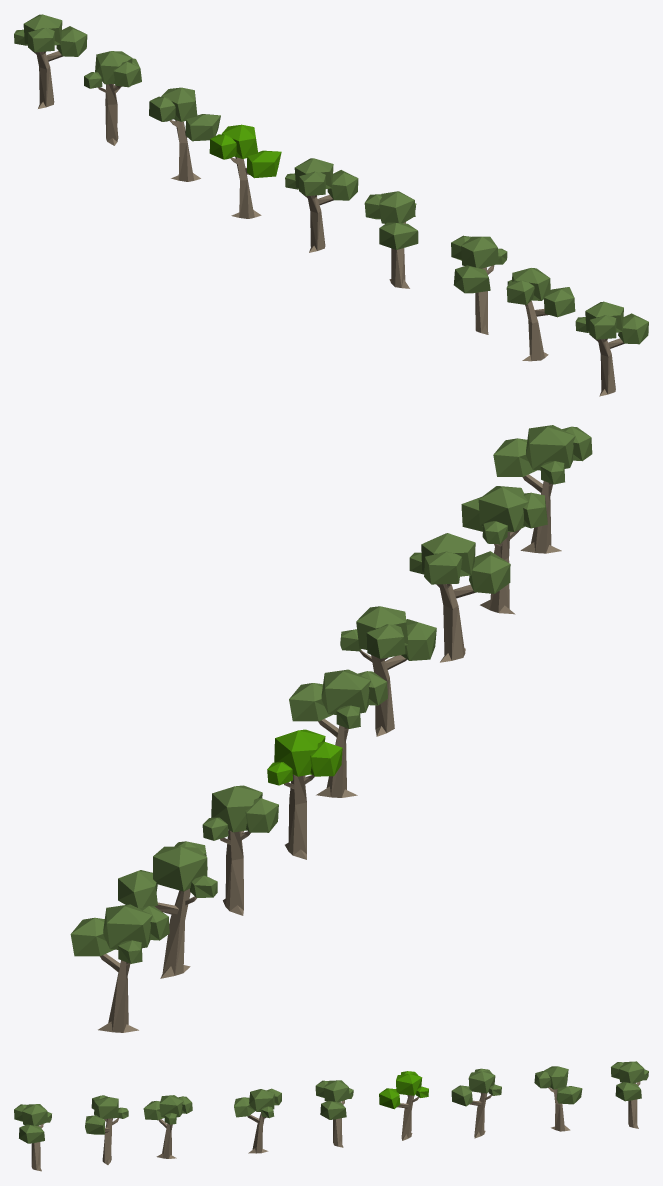
3 views of the same model, one above another, from view 1: azimuth 30°, elevation 25°; view 2: azimuth 150°, elevation 25°; view 3: azimuth 270°, elevation 25° (orthographic). The views are drawn at different scales.
Bounding box in the file's own units: 11.73 × 5.45 × 50.44.
